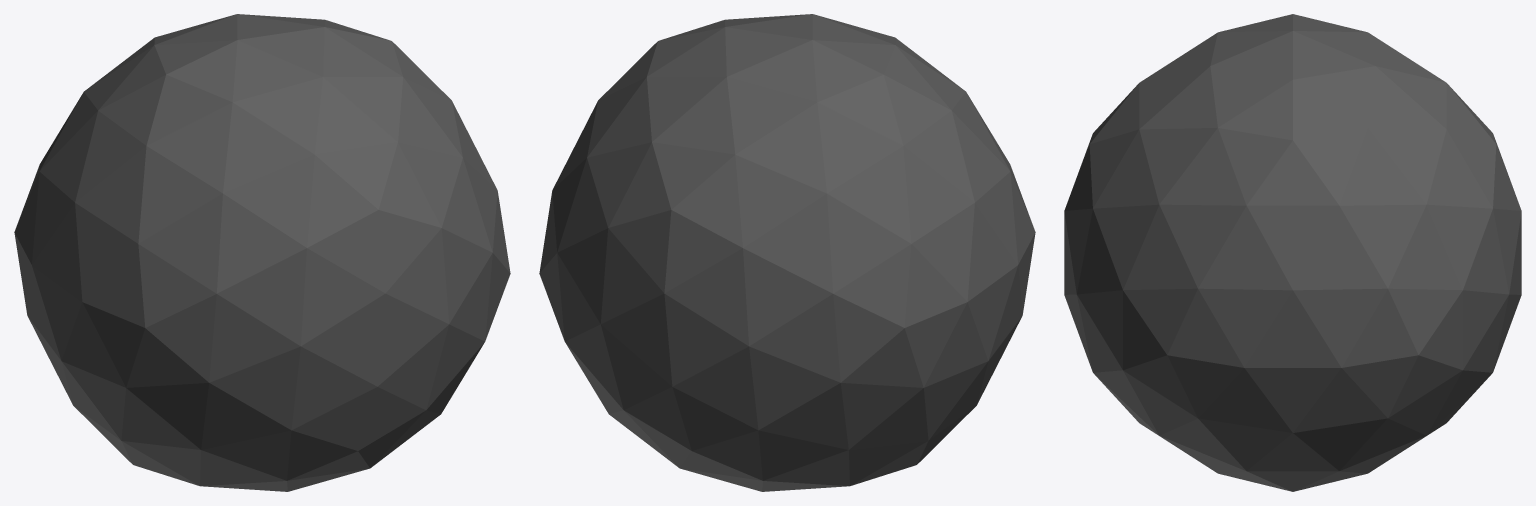
The model's file is SM_character_closed_4_SH.fbx.
The picture shows the model from 3 angles, left to right: view 1: azimuth 30°, elevation 25°; view 2: azimuth 150°, elevation 25°; view 3: azimuth 270°, elevation 25°; orthographic projection. The views are drawn at different scales.
Parts seen in each view (by area): view 1: SM_character_4_SH1; view 2: SM_character_4_SH1; view 3: SM_character_4_SH1.
Boxes of the visible parts, <box> form: SM_character_4_SH1: <box>14,14,510,491</box>; SM_character_4_SH1: <box>539,14,1035,491</box>; SM_character_4_SH1: <box>1064,14,1521,491</box>.
Size of the model in its own units: 634 by 636 by 646.
